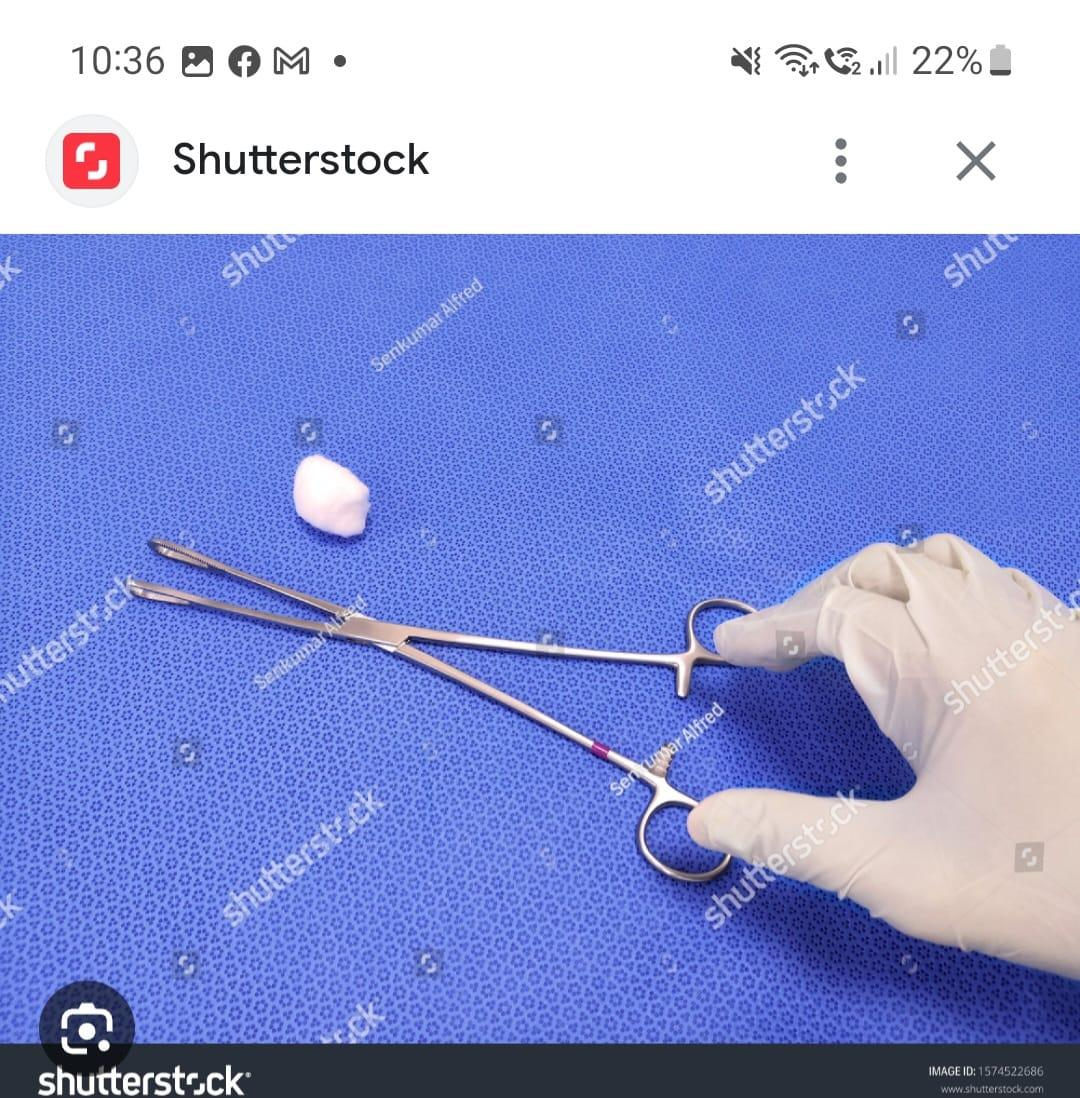Sponge Holding Forceps: (113, 522, 777, 897)
